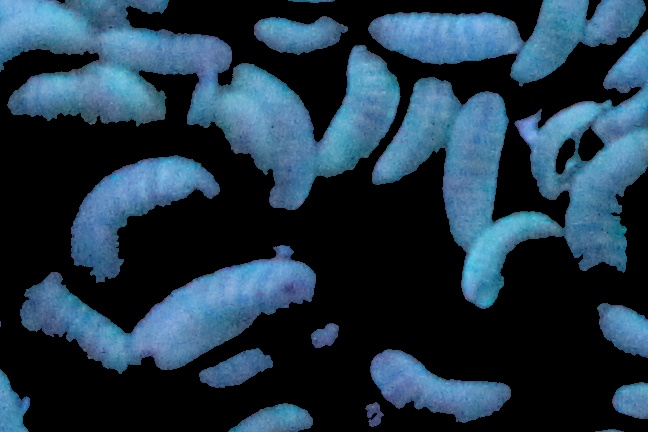larvae: (68, 154, 220, 283), (131, 257, 317, 353), (562, 130, 648, 272), (235, 63, 317, 208), (441, 90, 509, 249), (317, 47, 400, 175), (367, 350, 512, 422), (460, 210, 564, 307), (10, 65, 168, 125), (375, 78, 458, 183), (31, 279, 128, 368), (365, 11, 523, 63), (531, 101, 609, 200), (97, 26, 233, 75), (511, 1, 590, 83), (1, 2, 99, 60), (155, 316, 253, 373), (219, 95, 275, 169), (199, 345, 278, 392), (593, 296, 648, 357), (593, 91, 648, 147), (253, 18, 343, 52), (602, 31, 648, 93), (224, 402, 319, 432), (584, 1, 643, 46), (188, 75, 220, 128)
